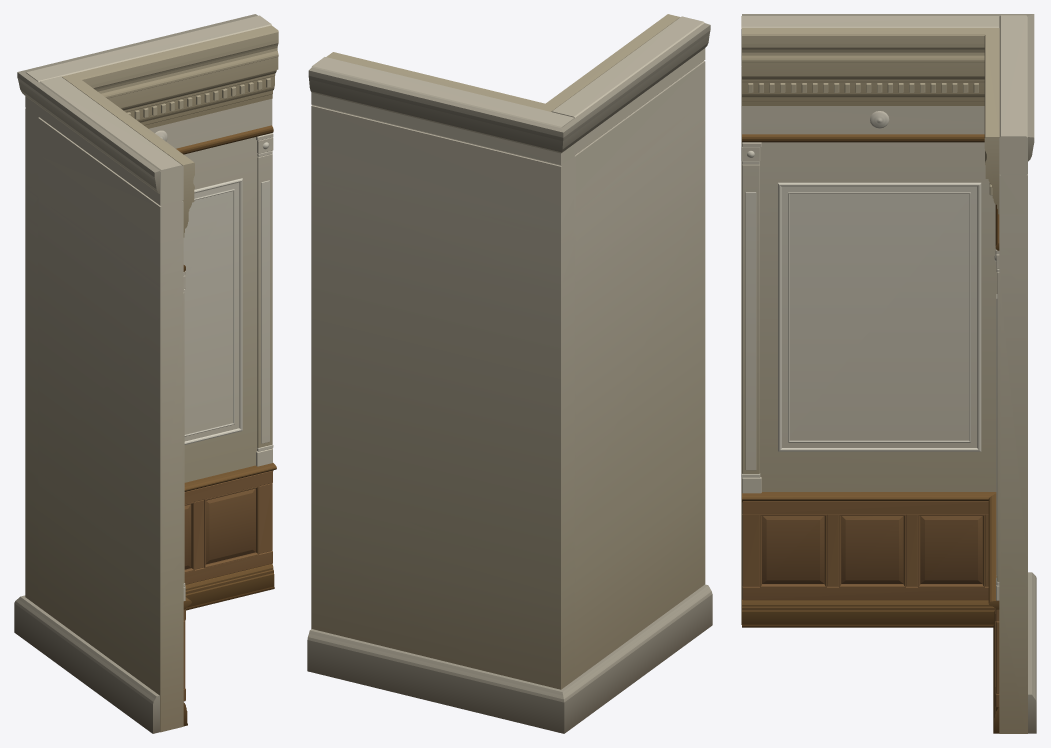
The model's file is library-wall-corner.glb.
3 views of the same model, side by side, from view 1: azimuth 30°, elevation 25°; view 2: azimuth 150°, elevation 25°; view 3: azimuth 270°, elevation 25° (orthographic). The views are drawn at different scales.
Visible parts, largest first — view 1: library_wall_corner; view 2: library_wall_corner; view 3: library_wall_corner.
Part boxes in pixels (box(x1,y1,x2,y2)): library_wall_corner: box(14, 14, 278, 733); library_wall_corner: box(307, 14, 712, 733); library_wall_corner: box(741, 14, 1036, 733).
Size of the model in its own units: 2.06 by 4.6 by 2.06.
